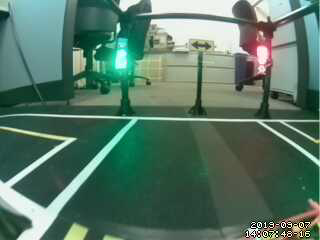Left_Right_sign: (188, 38, 217, 52)
Traffic_light_green: (116, 37, 126, 69)
Traffic_light_red: (257, 45, 269, 77)
